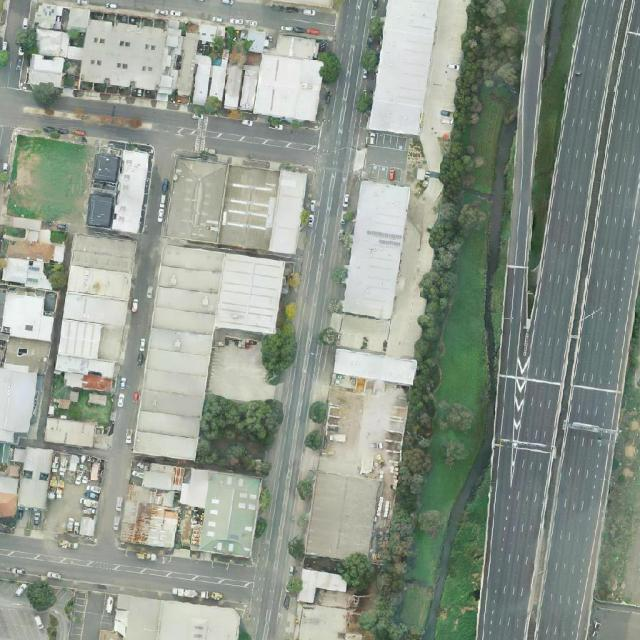building: (131, 243, 225, 463), (163, 148, 309, 257), (118, 458, 264, 563), (56, 233, 138, 379), (367, 0, 439, 137), (342, 179, 411, 321), (306, 472, 380, 562), (79, 18, 167, 92), (213, 251, 285, 335), (114, 594, 241, 640), (253, 52, 325, 124), (332, 347, 418, 387), (111, 149, 150, 234), (0, 365, 38, 442), (155, 19, 188, 101), (16, 446, 55, 510), (297, 569, 347, 608), (175, 32, 200, 97), (34, 27, 84, 59), (44, 417, 96, 447), (270, 34, 320, 60), (28, 53, 65, 88), (33, 1, 71, 34), (86, 191, 117, 230), (91, 151, 122, 185), (238, 65, 260, 112), (222, 64, 243, 110), (192, 55, 211, 105), (0, 476, 19, 517), (66, 6, 92, 34), (208, 65, 227, 101), (197, 22, 225, 46), (244, 30, 267, 53), (12, 448, 26, 462)
greenland: (508, 0, 584, 270), (435, 227, 503, 410), (194, 390, 285, 477), (441, 62, 485, 234), (394, 361, 443, 514), (488, 132, 519, 343), (412, 269, 457, 386), (418, 427, 474, 519), (423, 201, 467, 298), (465, 93, 503, 193), (256, 323, 305, 386), (334, 548, 382, 597), (404, 528, 445, 580), (398, 575, 436, 630), (358, 16, 389, 74), (22, 577, 59, 614), (436, 401, 475, 434), (413, 504, 449, 539), (316, 49, 344, 85), (304, 398, 332, 426), (43, 261, 68, 292), (32, 82, 61, 107), (14, 27, 38, 56), (295, 477, 317, 502), (355, 91, 373, 115), (65, 27, 85, 48), (287, 536, 305, 559), (305, 430, 323, 450), (48, 230, 68, 246), (286, 578, 302, 594), (0, 50, 10, 66)
metalled_road: (93, 131, 180, 548), (0, 535, 256, 602), (146, 106, 322, 166), (473, 118, 518, 330), (21, 91, 166, 143), (361, 130, 413, 185), (0, 581, 49, 639), (0, 87, 33, 129), (49, 605, 75, 640)
